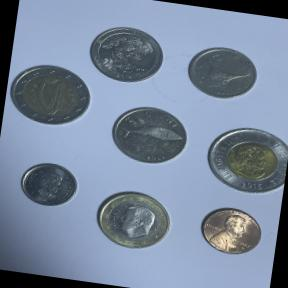coin: (195, 116, 288, 203), (2, 59, 96, 136), (86, 182, 181, 258), (104, 97, 195, 173), (82, 19, 171, 90), (193, 199, 270, 261), (13, 154, 82, 212)
